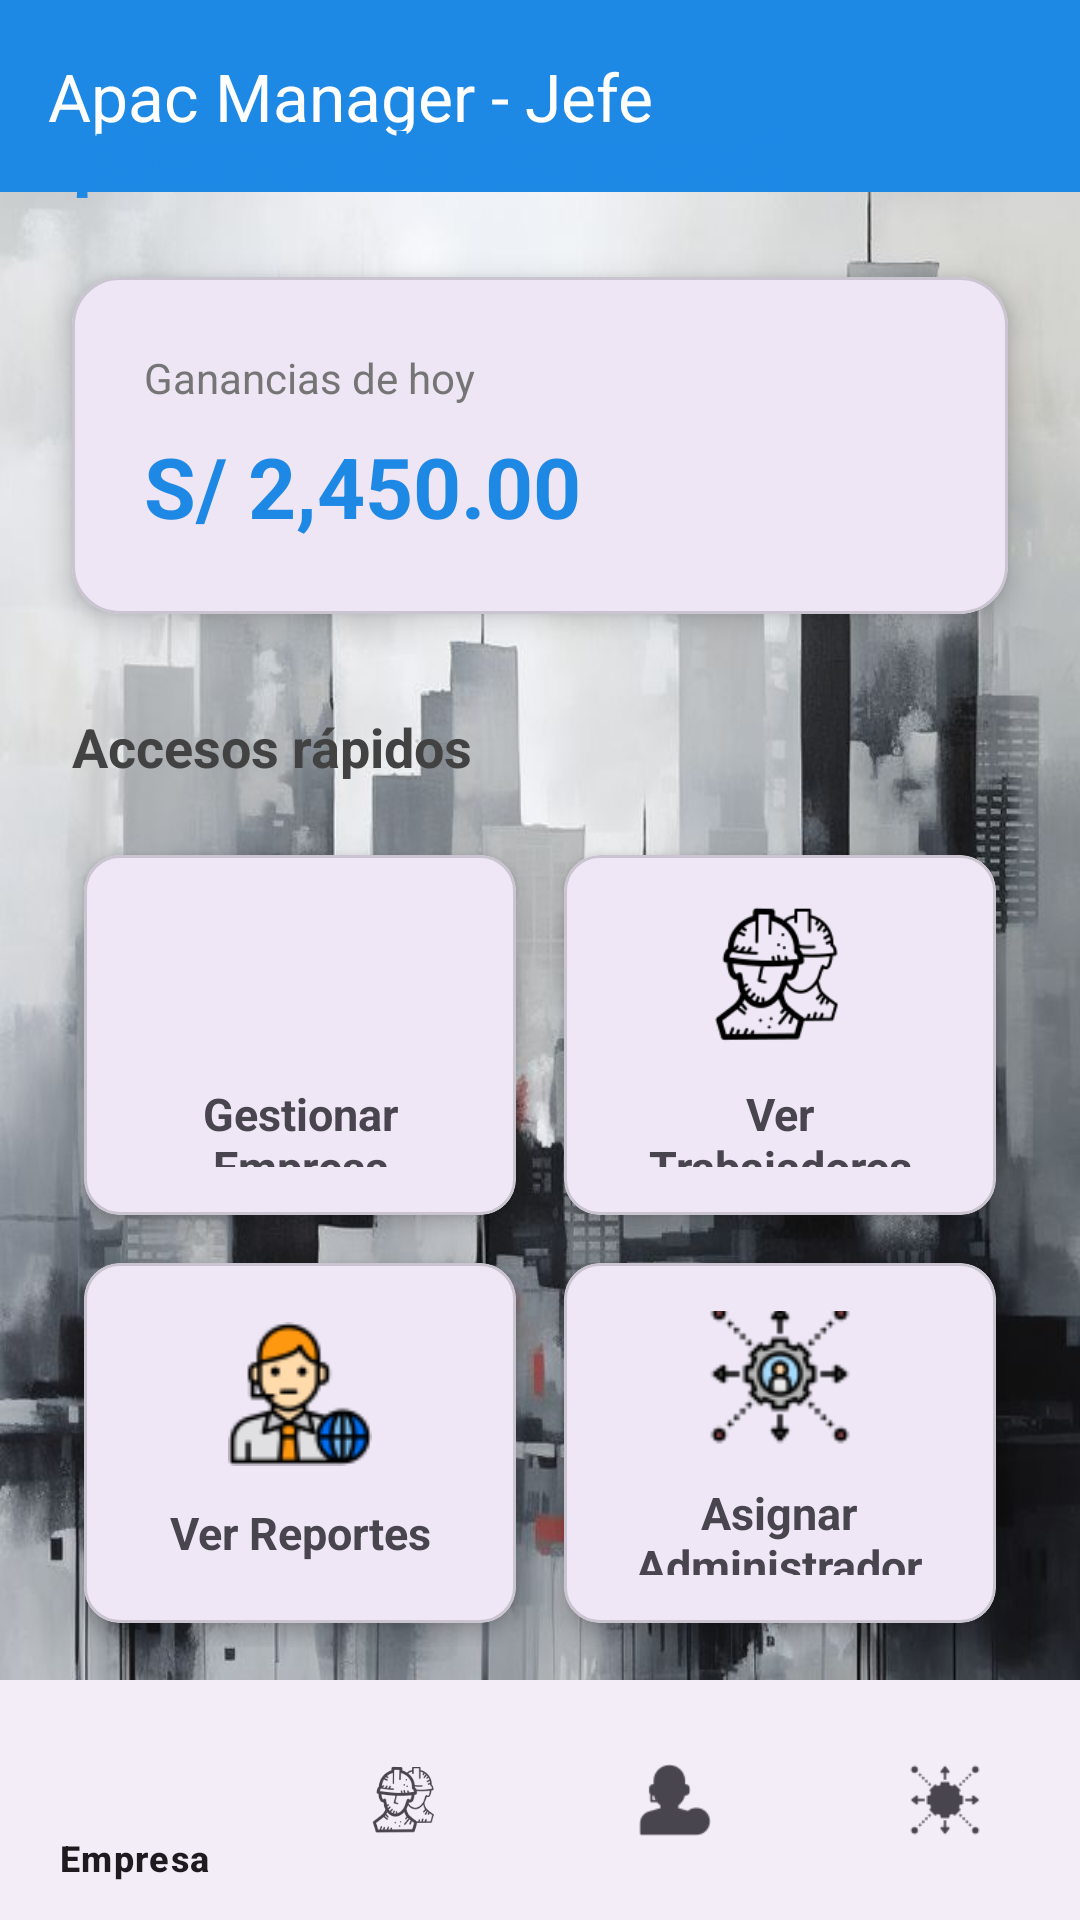

Where to tap for icons on this 1080*1920 app screen, as (x,y):
iconasignar: (780,1377)
icontrabajadores: (776,974)
